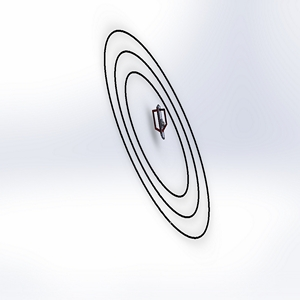circle: (81, 25, 215, 245)
submarine: (145, 102, 174, 143)
